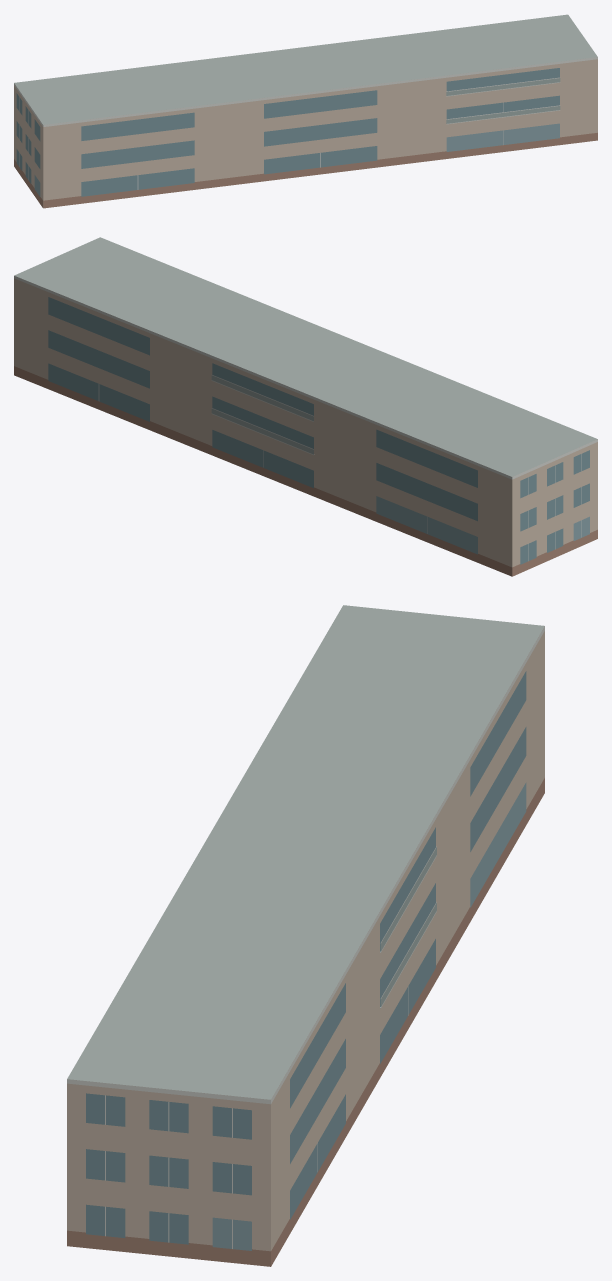
File: survey-upis-32870236.glb
3 renders of one model, top to bottom at view 1: azimuth 30°, elevation 25°; view 2: azimuth 150°, elevation 25°; view 3: azimuth 270°, elevation 25°, orthographic. The views are drawn at different scales.
Visible parts, largest first — view 1: survey-upis-32870236.tmp; view 2: survey-upis-32870236.tmp; view 3: survey-upis-32870236.tmp.
Part boxes in pixels (bbox=[...]): survey-upis-32870236.tmp: bbox=[14, 14, 597, 208]; survey-upis-32870236.tmp: bbox=[14, 237, 597, 576]; survey-upis-32870236.tmp: bbox=[67, 605, 544, 1266].
Bounding box in the file's own units: 58.14 × 9.15 × 23.74.
